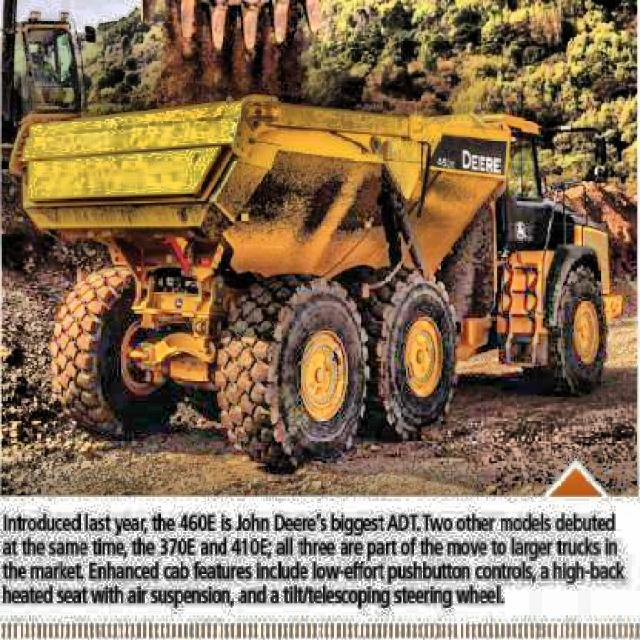dump_truck: (20, 99, 640, 463)
